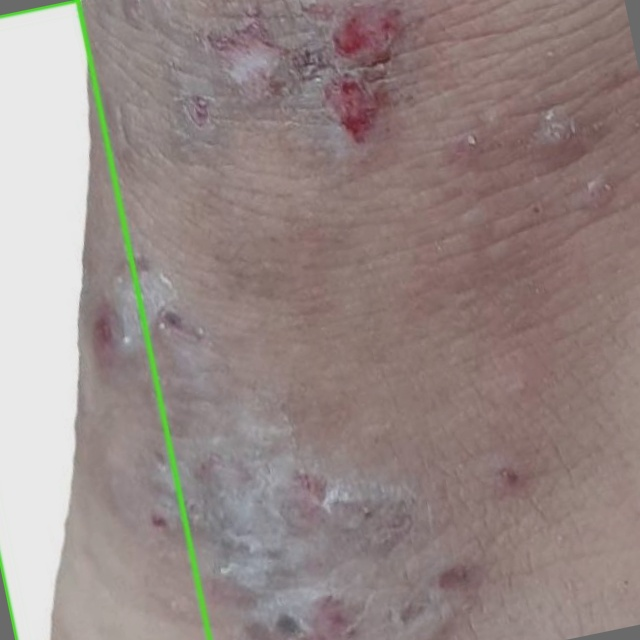Eczema: (0, 0, 209, 639)
